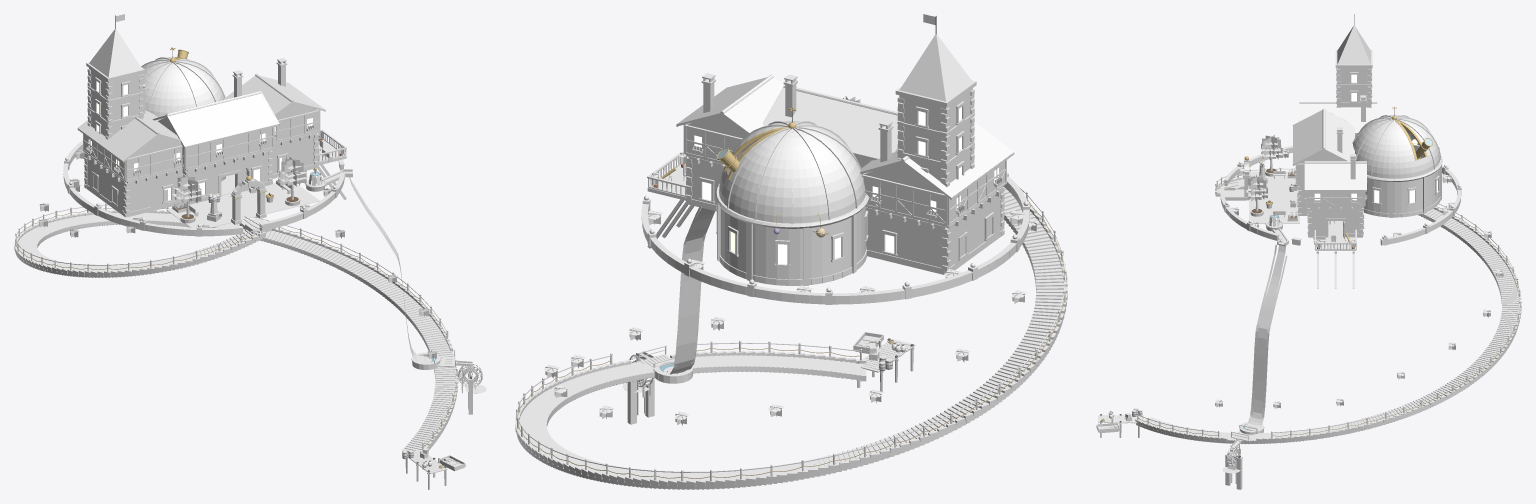
Rendered from letarion.glb.
3 renders of one model, left to right at view 1: azimuth 30°, elevation 25°; view 2: azimuth 150°, elevation 25°; view 3: azimuth 270°, elevation 25°, orthographic. The views are drawn at different scales.
Visible parts, largest first — view 1: letarion_estatico, TELHADO_predios, CASCATA; view 2: letarion_estatico, TELHADO_predios, CASCATA; view 3: letarion_estatico, TELHADO_predios, CASCATA.
Boxes of the visible parts, x1,y1,x2,y2 form: letarion_estatico: (14, 49, 473, 489); TELHADO_predios: (77, 15, 325, 183); CASCATA: (308, 172, 475, 390); letarion_estatico: (515, 96, 1067, 489); TELHADO_predios: (676, 16, 1014, 229); CASCATA: (636, 207, 715, 374); letarion_estatico: (1098, 135, 1521, 489); TELHADO_predios: (1292, 14, 1440, 210); CASCATA: (1228, 215, 1287, 470).
Bounding box in the file's own units: 71.95 × 76.56 × 83.16.
